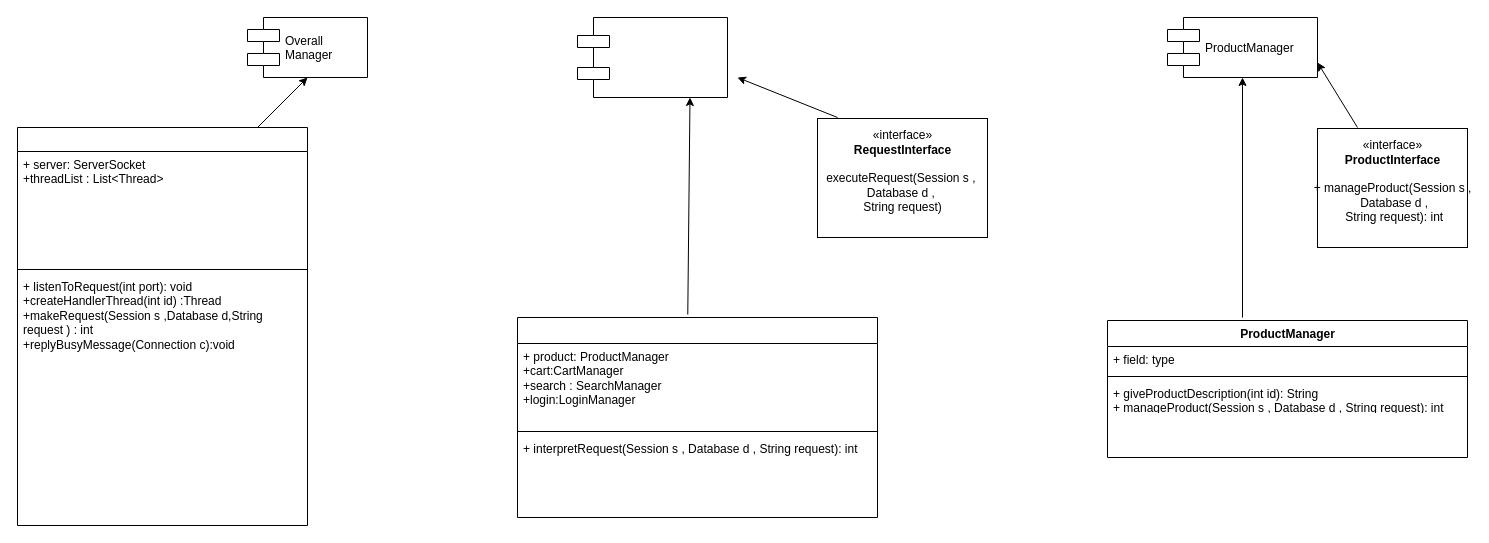
This 1489x543 diagram has some shape labels left out. The box of each missing label's shape, as (x1, y1, x2, y2) in pixels:
Manager: (16, 126, 308, 526)
Request Manager: (576, 16, 728, 98)
RequestManager: (516, 316, 878, 518)
